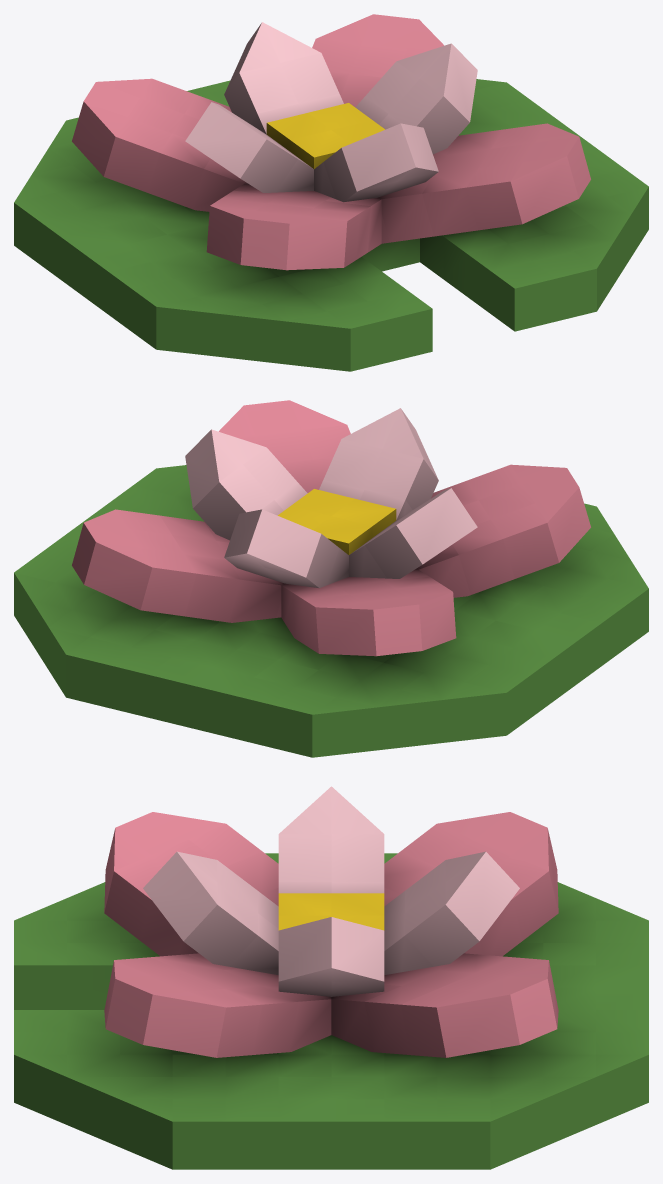
The model's file is LilyPadFlower.fbx.
The picture shows the model from 3 angles, top to bottom: view 1: azimuth 30°, elevation 25°; view 2: azimuth 150°, elevation 25°; view 3: azimuth 270°, elevation 25°; orthographic projection. The views are drawn at different scales.
Parts seen in each view (by area): view 1: Pad, PetalOuter3, PetalOuter1, PetalOuter2, PetalInner4, PetalInner1, PetalInner3, PetalOuter4, PetalInner2, Centre; view 2: Pad, PetalOuter4, PetalOuter2, PetalOuter1, PetalInner4, PetalInner3, PetalInner1, PetalOuter3, PetalInner2, Centre; view 3: Pad, PetalOuter3, PetalOuter4, PetalOuter1, PetalOuter2, PetalInner1, PetalInner3, PetalInner2, PetalInner4, Centre.
Part boxes in pixels (x1,y1,x2,y2): Pad: (14, 79, 648, 371); PetalOuter3: (378, 123, 590, 243); PetalOuter1: (72, 78, 247, 211); PetalOuter2: (206, 183, 381, 270); PetalInner4: (355, 43, 477, 154); PetalInner1: (224, 22, 343, 134); PetalInner3: (314, 123, 438, 202); PetalOuter4: (312, 14, 443, 106); PetalInner2: (185, 102, 313, 192); Centre: (266, 103, 384, 168); Pad: (14, 465, 648, 757); PetalOuter4: (72, 509, 284, 622); PetalOuter2: (415, 464, 590, 597); PetalOuter1: (281, 569, 456, 656); PetalInner4: (185, 429, 307, 540); PetalInner3: (319, 408, 438, 520); PetalInner1: (224, 509, 348, 588); PetalOuter3: (219, 400, 350, 492); PetalInner2: (349, 488, 477, 578); Centre: (278, 489, 396, 554); Pad: (14, 853, 648, 1169); PetalOuter3: (104, 953, 331, 1057); PetalOuter4: (331, 953, 558, 1057); PetalOuter1: (384, 812, 558, 956); PetalOuter2: (104, 812, 278, 956); PetalInner1: (384, 851, 519, 974); PetalInner3: (143, 851, 278, 974); PetalInner2: (278, 786, 384, 893); PetalInner4: (278, 917, 384, 996); Centre: (278, 893, 384, 930).
Bounding box in the file's own units: 120 × 38.37 × 120.
